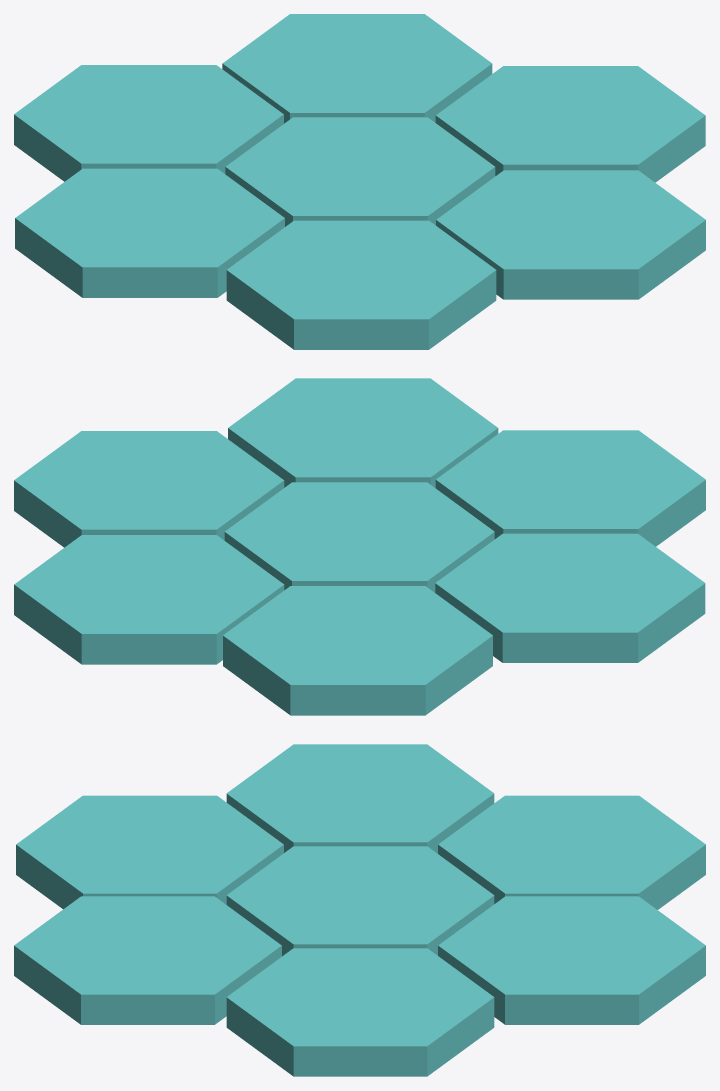
The model's file is mirror.FBX.
3 views of the same model, one above another, from view 1: azimuth 30°, elevation 25°; view 2: azimuth 150°, elevation 25°; view 3: azimuth 270°, elevation 25° (orthographic).
Visible parts, largest first — view 1: Cylinder.006, Cylinder.002, Cylinder.004, Cylinder.001, Cylinder.005, Cylinder, Cylinder.003; view 2: Cylinder.005, Cylinder.002, Cylinder.003, Cylinder.006, Cylinder.001, Cylinder.004, Cylinder; view 3: Cylinder.001, Cylinder.004, Cylinder.003, Cylinder.005, Cylinder.006, Cylinder, Cylinder.002.
Boxes of the visible parts, x1,y1,x2,y2 form: Cylinder.006: (226, 220, 496, 349); Cylinder.002: (15, 168, 284, 297); Cylinder.004: (436, 170, 705, 299); Cylinder.001: (435, 66, 705, 182); Cylinder.005: (14, 65, 283, 181); Cylinder: (225, 117, 495, 226); Cylinder.003: (222, 14, 492, 123); Cylinder.005: (223, 586, 492, 715); Cylinder.002: (435, 533, 705, 662); Cylinder.003: (14, 535, 284, 664); Cylinder.006: (435, 430, 705, 546); Cylinder.001: (14, 431, 284, 547); Cylinder.004: (228, 378, 498, 487); Cylinder: (224, 482, 494, 592); Cylinder.001: (226, 948, 494, 1076); Cylinder.004: (14, 896, 281, 1024); Cylinder.003: (438, 896, 705, 1024); Cylinder.005: (438, 795, 705, 909); Cylinder.006: (16, 795, 283, 909); Cylinder: (226, 846, 494, 956); Cylinder.002: (226, 744, 494, 853).
Size of the model in its own units: 533 by 25 by 517.
